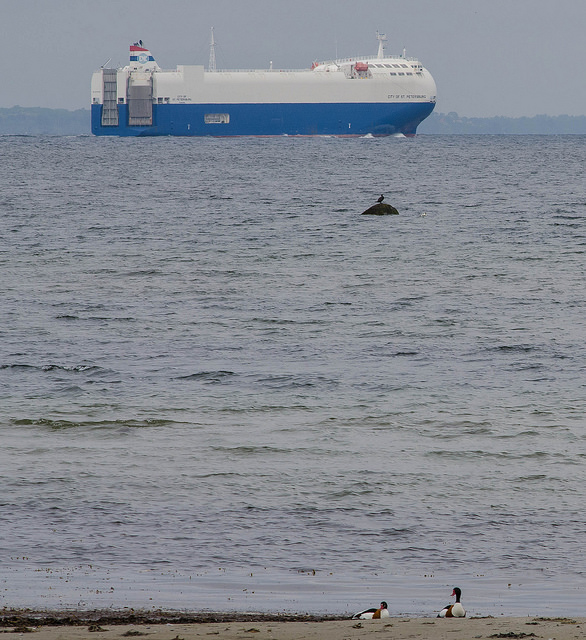PCC: (89, 20, 442, 137)
